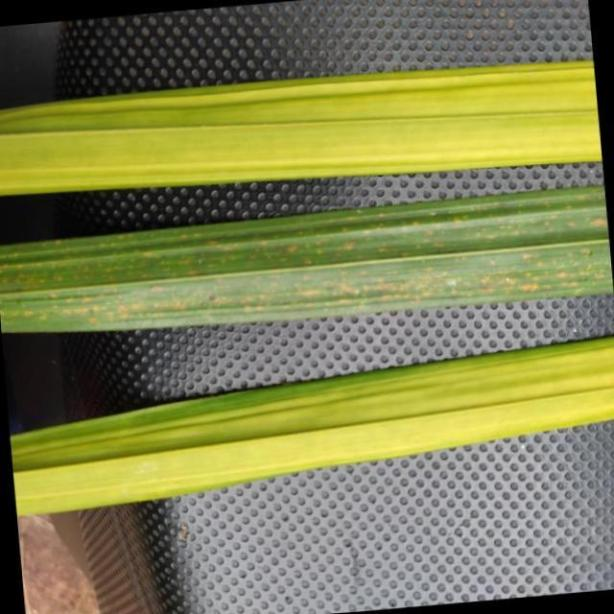nitrogen: (0, 336, 614, 515), (5, 61, 614, 198), (0, 201, 614, 336)
